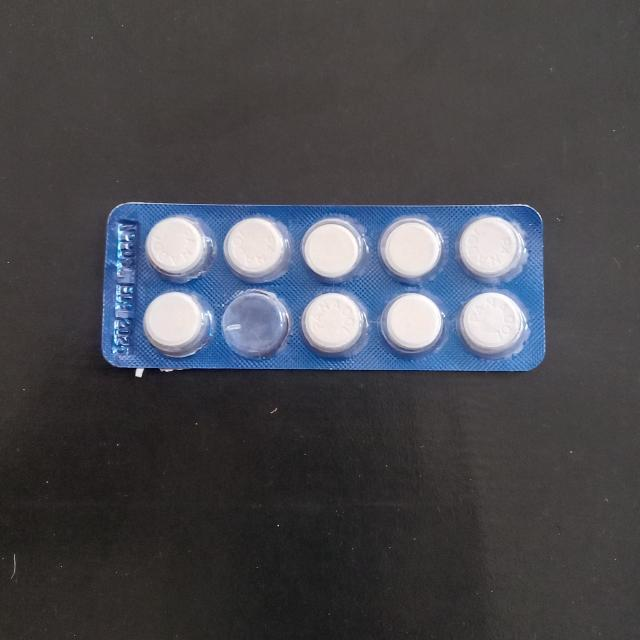defect: (217, 285, 296, 366)
